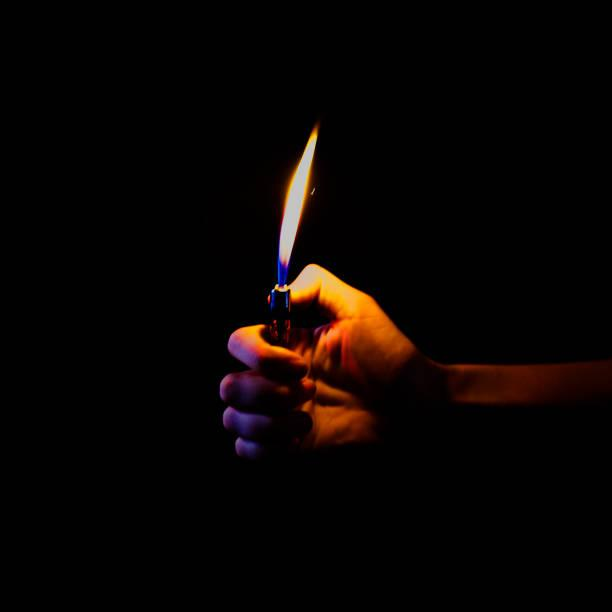Fire: (273, 110, 320, 285)
